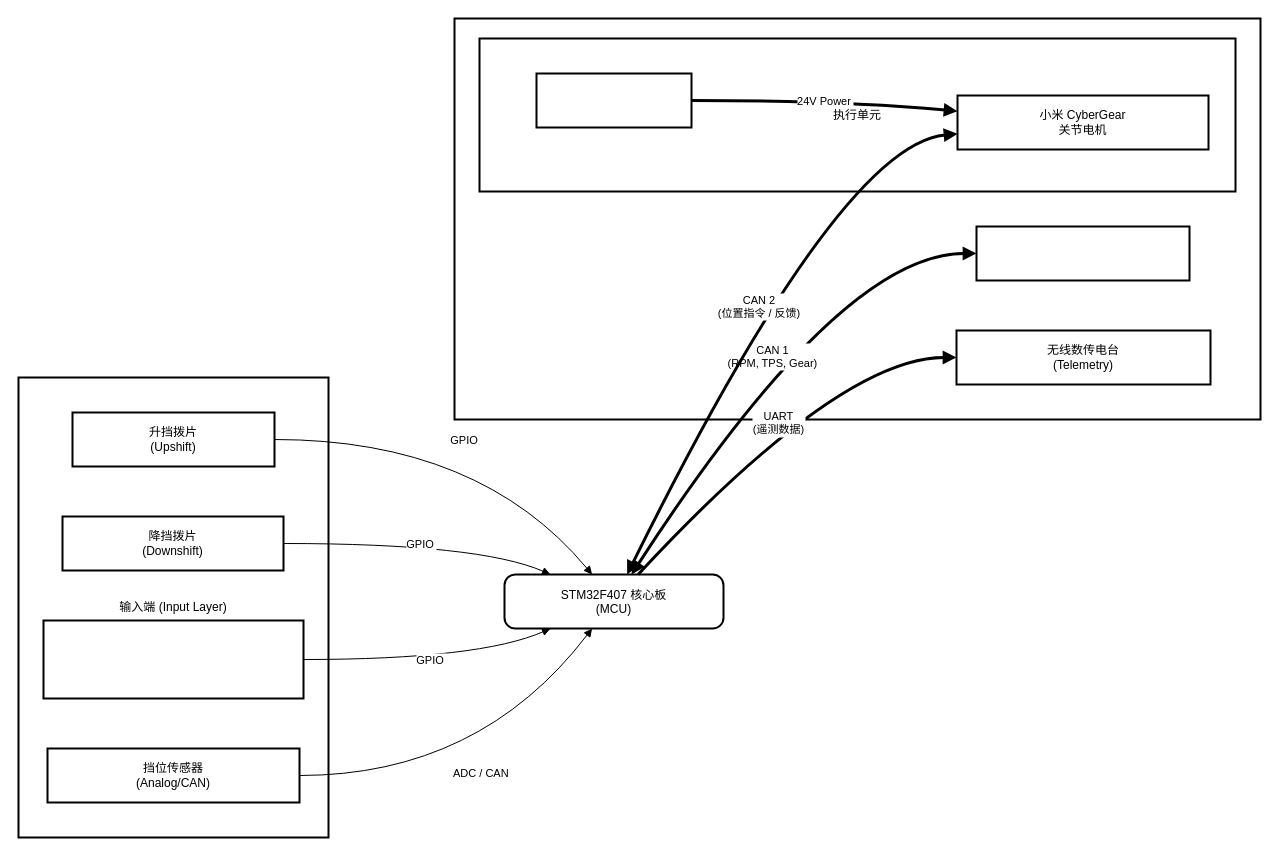
Image size: 1278x855. Some labels were removed from this diagram. The shapes that lost their labels are listed below. From the top down, each one's box as (x1, y1, x2, y2) in pixels, then its label:
(535, 72, 692, 128): 24V 升压模块
(453, 17, 1261, 420): 通信与执行端 (Comm & Actuation)
(975, 225, 1190, 281): Link ECU (整车电脑)
(42, 619, 304, 699): 空挡重置按钮 (Neutral Reset)
